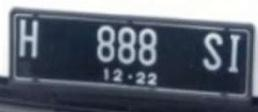8: (137, 27, 159, 68), (95, 23, 116, 65), (117, 22, 136, 66)
H: (16, 18, 43, 61)
I: (226, 32, 243, 76)
Plate: (14, 15, 248, 98)
S: (201, 31, 224, 74)
